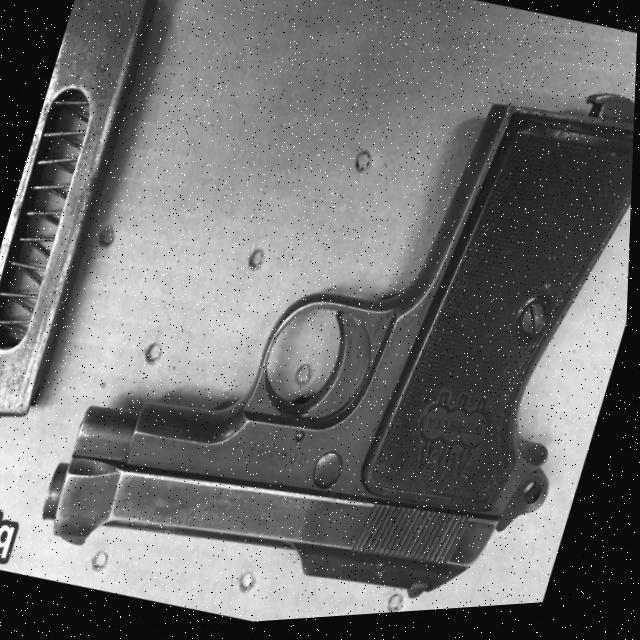pistol: (30, 0, 639, 637)
